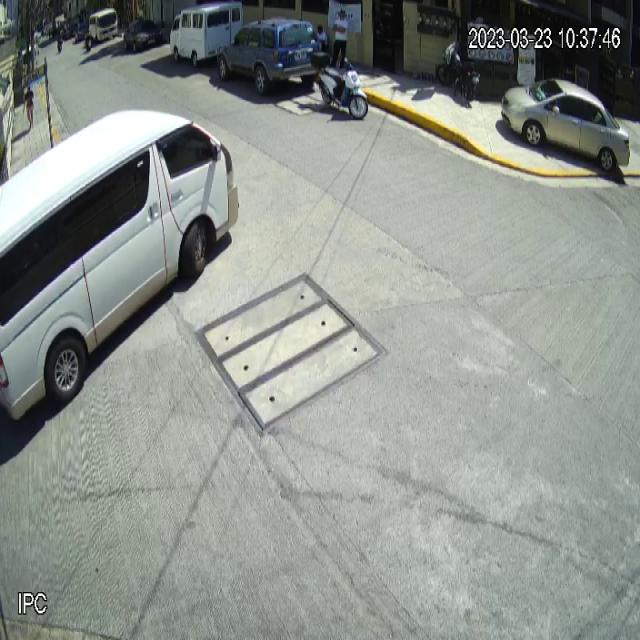Car: (501, 77, 631, 172), (217, 17, 323, 89)
Motorcycle: (310, 48, 368, 122)
Van: (0, 110, 240, 420), (170, 1, 242, 67)
